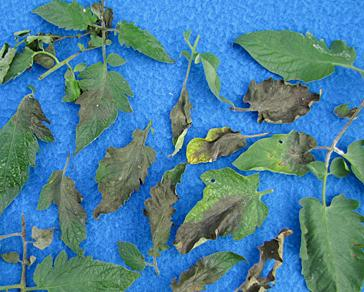Tomato leaf late blight: (175, 167, 274, 264), (292, 183, 364, 292), (0, 91, 54, 216), (70, 57, 136, 152), (92, 121, 158, 214), (138, 159, 193, 257), (43, 159, 94, 255), (31, 253, 156, 292), (235, 126, 321, 179), (167, 247, 256, 292), (110, 23, 176, 63)
